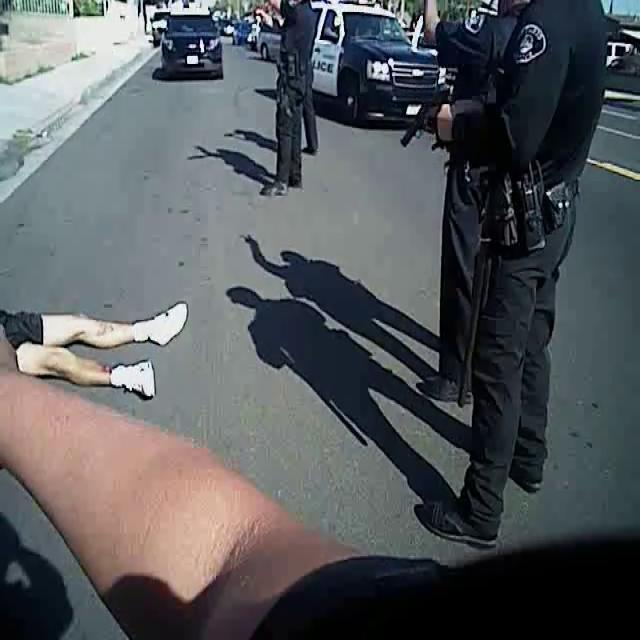gun: (392, 86, 436, 164), (237, 1, 267, 31)
